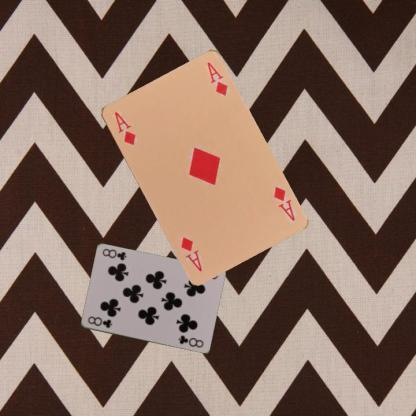8c: (85, 314, 113, 329)
Ad: (270, 182, 296, 223), (112, 109, 138, 147)
